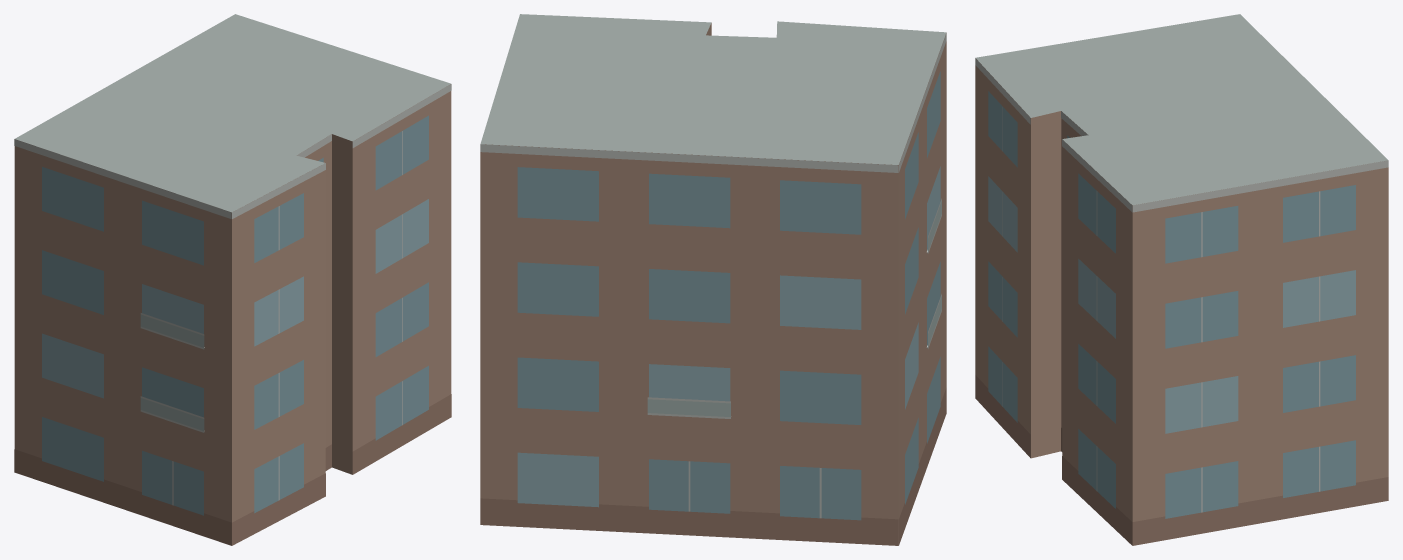
The model's file is survey-upis-32866118.glb.
The picture shows the model from 3 angles, left to right: view 1: azimuth 30°, elevation 25°; view 2: azimuth 150°, elevation 25°; view 3: azimuth 270°, elevation 25°; orthographic projection. The views are drawn at different scales.
Visible parts, largest first — view 1: survey-upis-32866118.tmp; view 2: survey-upis-32866118.tmp; view 3: survey-upis-32866118.tmp.
Part boxes in pixels (box(x1,y1,x2,y2)): survey-upis-32866118.tmp: box(14, 14, 451, 545); survey-upis-32866118.tmp: box(480, 14, 946, 545); survey-upis-32866118.tmp: box(975, 14, 1388, 545).
Bounding box in the file's own units: 14.12 × 11.7 × 12.89.
